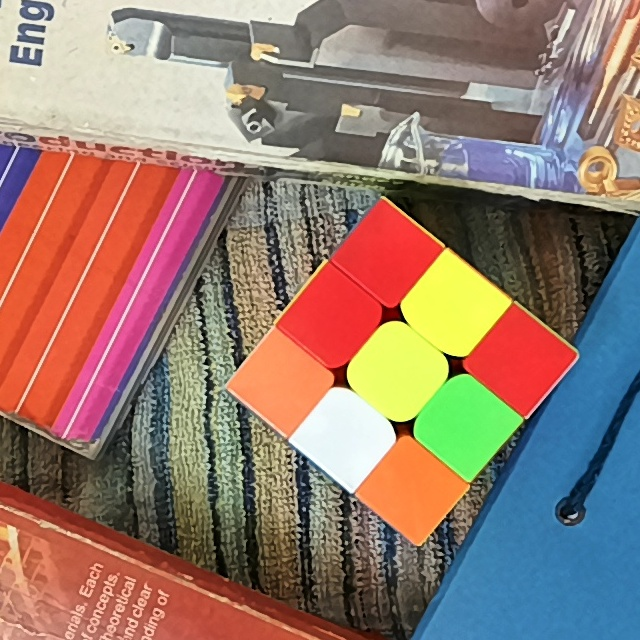tile: (358, 227, 414, 284), (427, 275, 481, 334), (374, 338, 427, 398), (305, 289, 360, 345), (438, 400, 495, 454), (253, 354, 310, 408), (318, 409, 376, 461), (493, 333, 547, 387), (384, 460, 435, 513)
